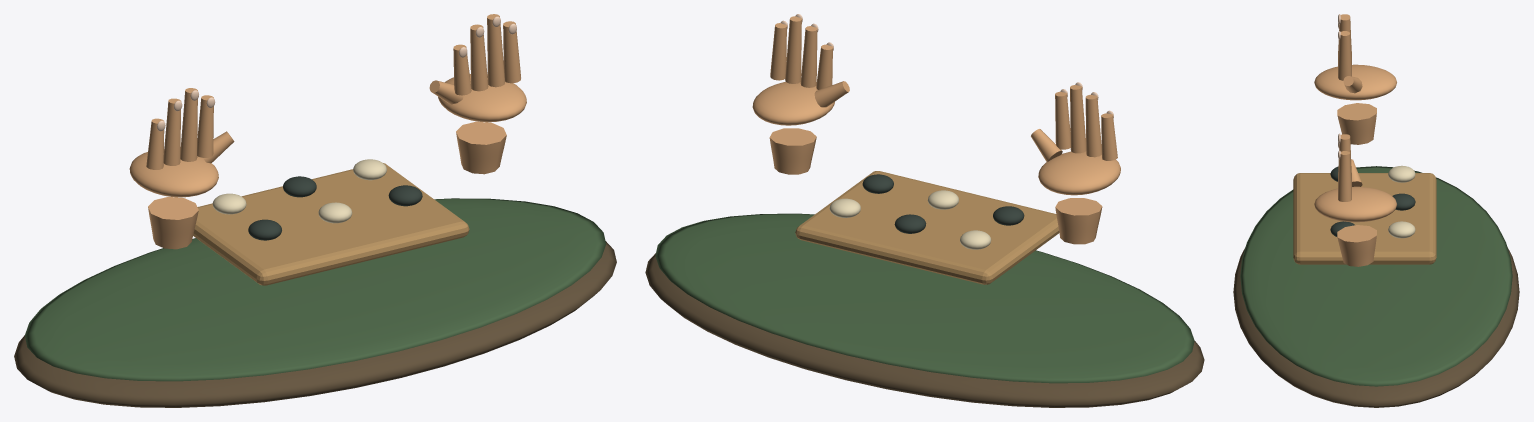
File: opponent.glb
3 views of the same model, side by side, from view 1: azimuth 30°, elevation 25°; view 2: azimuth 150°, elevation 25°; view 3: azimuth 270°, elevation 25° (orthographic). The views are drawn at different scales.
Parts seen in each view (by area): view 1: opponent_surface_01, opponent_surface_02, opponent_surface_00, opponent_surface_05, opponent_surface_07, opponent_surface_03, opponent_surface_04; view 2: opponent_surface_01, opponent_surface_02, opponent_surface_00, opponent_surface_05, opponent_surface_07, opponent_surface_04, opponent_surface_03; view 3: opponent_surface_01, opponent_surface_02, opponent_surface_00, opponent_surface_07, opponent_surface_05, opponent_surface_03, opponent_surface_04.
Part boxes in pixels (left/top/right/bottom): opponent_surface_01: left=24, top=198, right=606, bottom=381; opponent_surface_02: left=193, top=163, right=469, bottom=285; opponent_surface_00: left=14, top=241, right=616, bottom=407; opponent_surface_05: left=129, top=88, right=234, bottom=249; opponent_surface_07: left=429, top=14, right=526, bottom=174; opponent_surface_03: left=212, top=159, right=386, bottom=223; opponent_surface_04: left=248, top=176, right=422, bottom=240; opponent_surface_01: left=655, top=213, right=1194, bottom=383; opponent_surface_02: left=795, top=171, right=1059, bottom=284; opponent_surface_00: left=645, top=253, right=1204, bottom=407; opponent_surface_05: left=1031, top=85, right=1120, bottom=244; opponent_surface_07: left=752, top=16, right=849, bottom=174; opponent_surface_04: left=862, top=174, right=1024, bottom=233; opponent_surface_03: left=829, top=190, right=991, bottom=249; opponent_surface_01: left=1240, top=166, right=1512, bottom=386; opponent_surface_02: left=1293, top=173, right=1436, bottom=264; opponent_surface_00: left=1233, top=247, right=1519, bottom=407; opponent_surface_07: left=1314, top=134, right=1396, bottom=266; opponent_surface_05: left=1314, top=14, right=1396, bottom=144; opponent_surface_03: left=1388, top=165, right=1415, bottom=238; opponent_surface_04: left=1330, top=166, right=1415, bottom=236.
Size of the model in its own units: 4.68 by 2.3 by 2.48.
